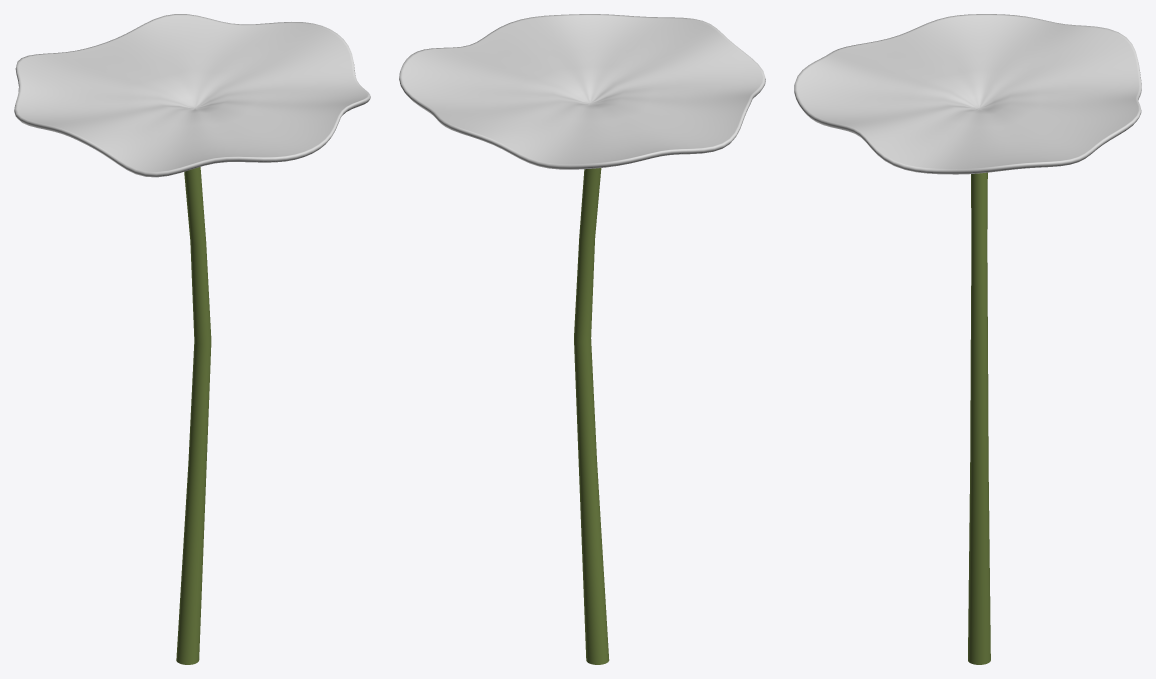
File: lotus_step.glb
3 views of the same model, side by side, from view 1: azimuth 30°, elevation 25°; view 2: azimuth 150°, elevation 25°; view 3: azimuth 270°, elevation 25° (orthographic).
Visible parts, largest first — view 1: SM_Valley_LotusStep; view 2: SM_Valley_LotusStep; view 3: SM_Valley_LotusStep.
Boxes of the visible parts, x1,y1,x2,y2 form: SM_Valley_LotusStep: [14, 14, 370, 664]; SM_Valley_LotusStep: [399, 14, 765, 664]; SM_Valley_LotusStep: [794, 14, 1141, 664].
Bounding box in the file's own units: 1.16 × 2 × 1.09.
